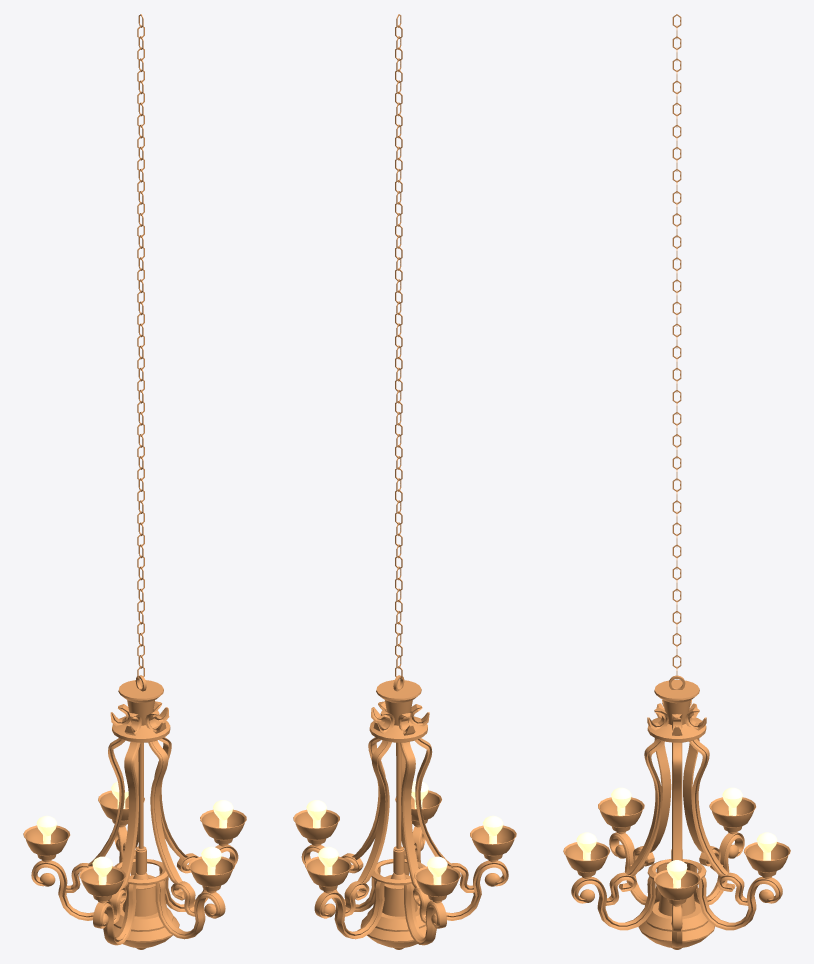
File: chandelier.fbx
3 renders of one model, left to right at view 1: azimuth 30°, elevation 25°; view 2: azimuth 150°, elevation 25°; view 3: azimuth 270°, elevation 25°, orthographic.
Parts seen in each view (by area): view 1: BezierCurve; view 2: BezierCurve; view 3: BezierCurve.
Part boxes in pixels (x1,y1,x2,y2): BezierCurve: (23,14,246,949); BezierCurve: (293,14,516,949); BezierCurve: (563,14,790,949).
Bounding box in the file's own units: 617 × 2687 × 640.
